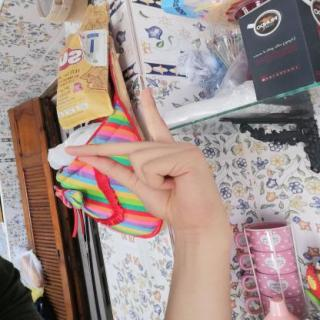TAA: (60, 80, 235, 234)
